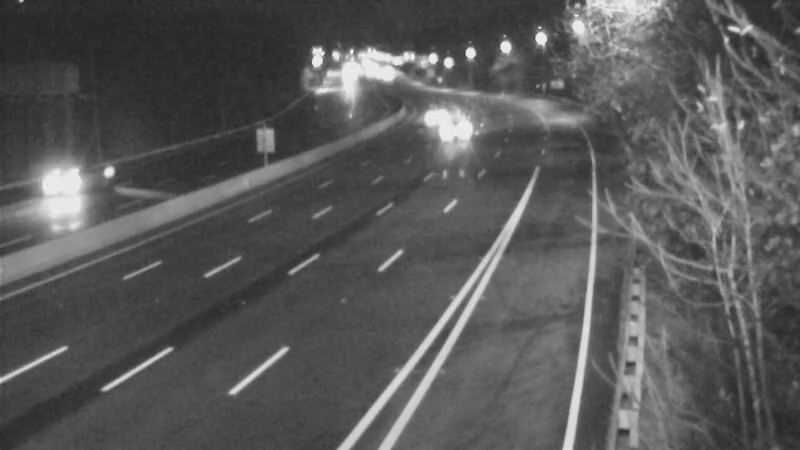vehicle: (17, 138, 97, 218), (409, 90, 459, 140), (435, 103, 485, 153)
